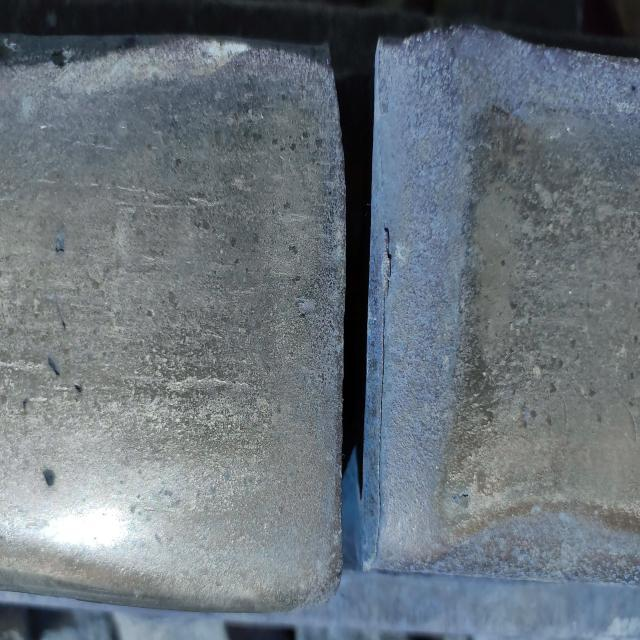broken_rail_low: (320, 14, 398, 626)
head_checks_low: (44, 340, 88, 403), (50, 209, 70, 263), (40, 456, 61, 498)
